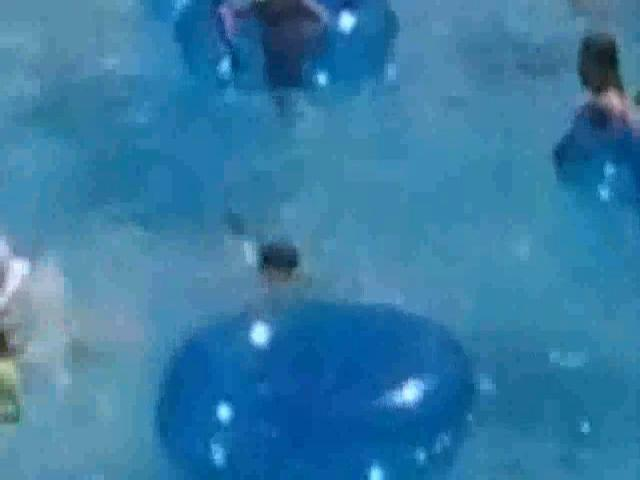drowning: (188, 211, 352, 300)
